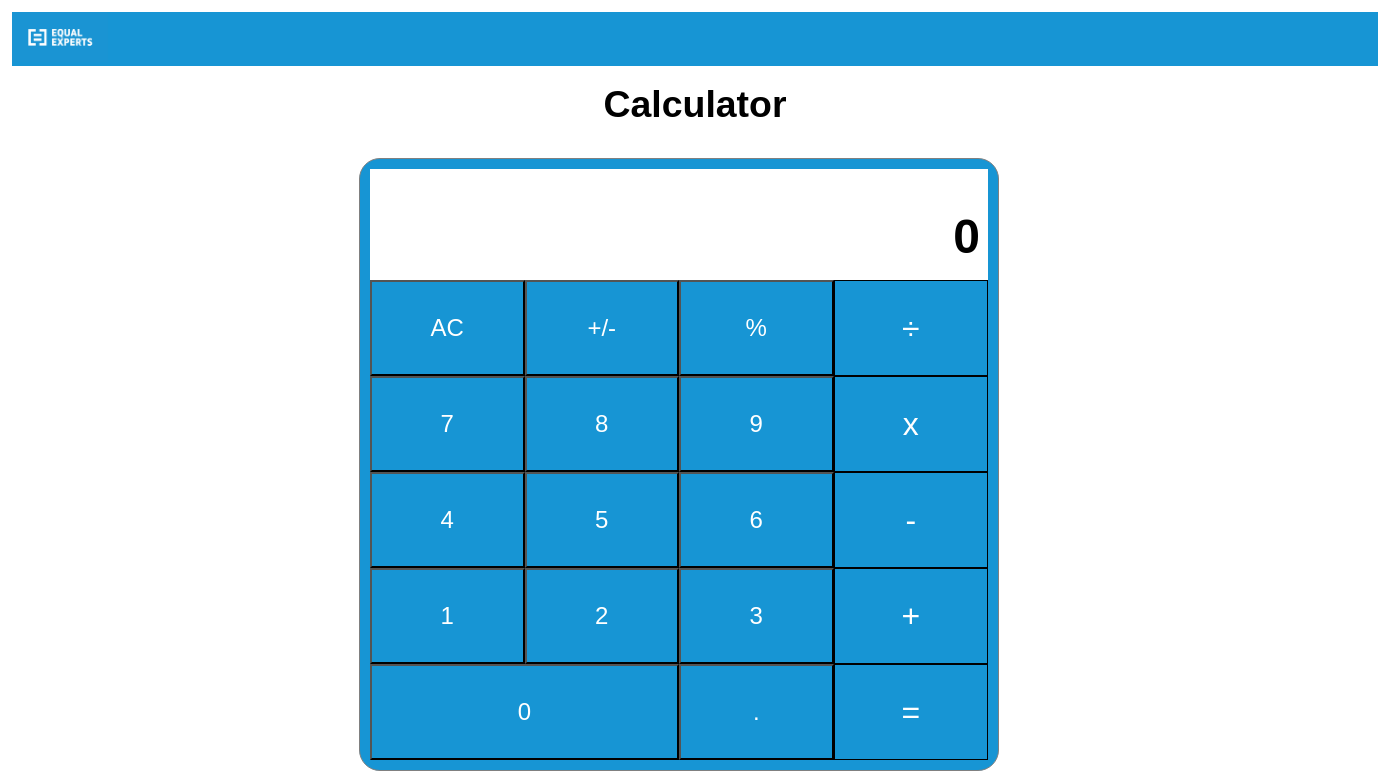
Scenario: Calculation method: 'AC' and '+/-' › Should contain the number 0
This screenshot has width=1378, height=780.
Click the button titled "eight": (602, 424) x1=524 y1=376 x2=679 y2=472
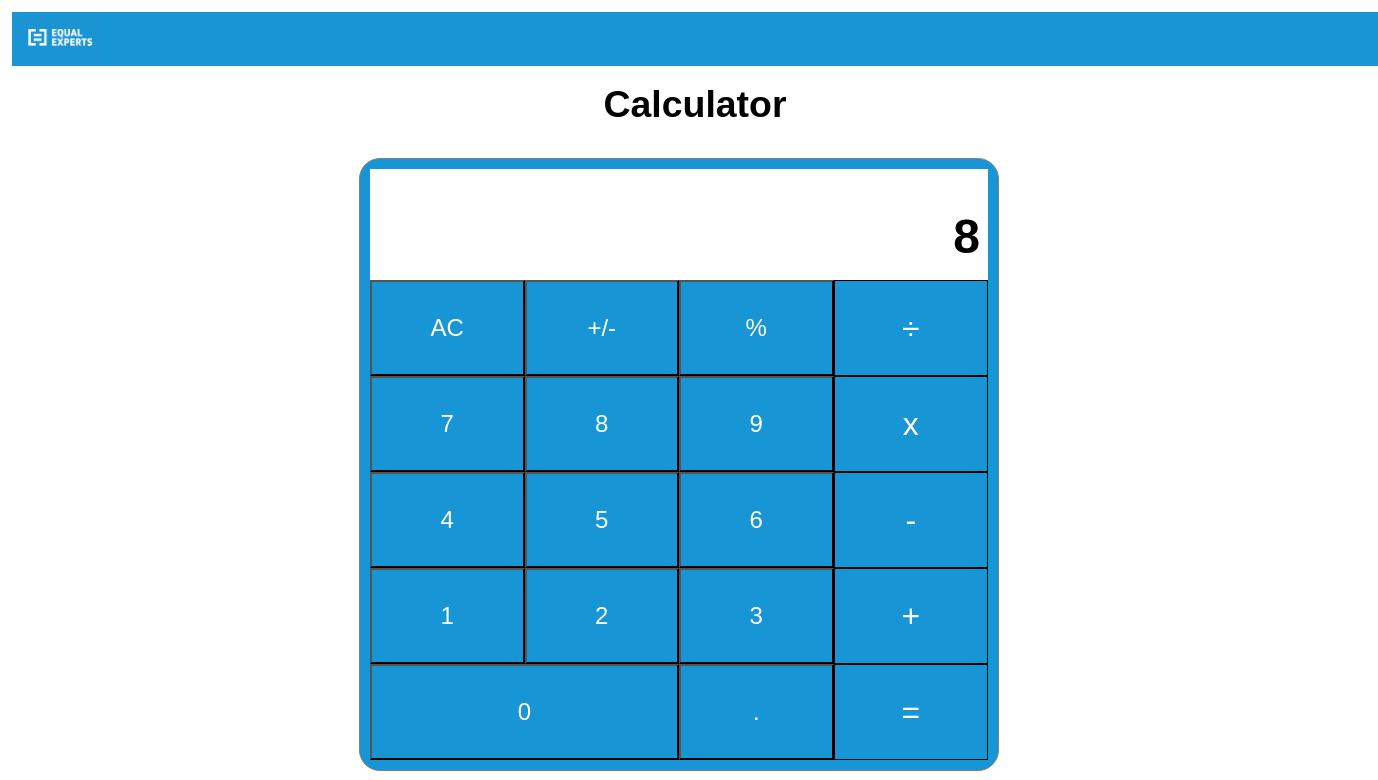
Click the button titled "clear": (447, 328) x1=370 y1=280 x2=524 y2=376
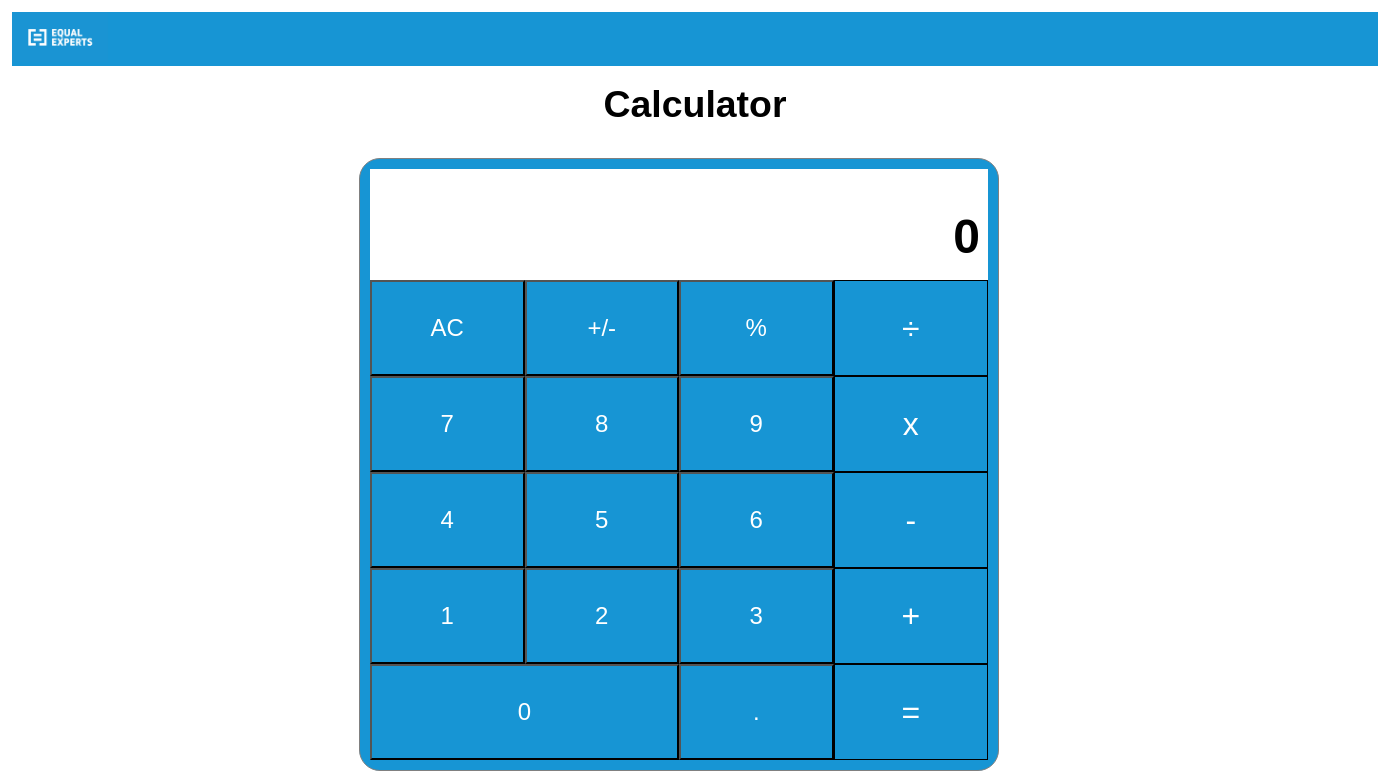
Now the text titled "display" reads "0", box x1=953 y1=210 x2=980 y2=263
